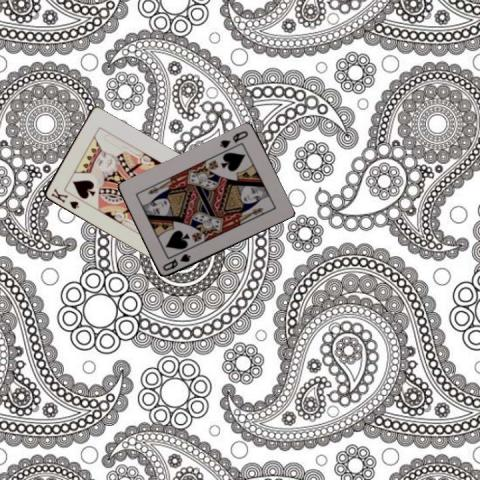Ks: (48, 186, 80, 211)
Qs: (159, 250, 192, 272), (218, 128, 250, 150)
